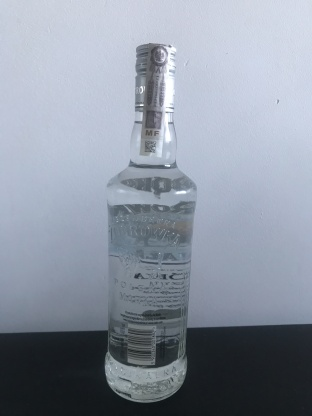nakretka: (132, 39, 178, 115)
